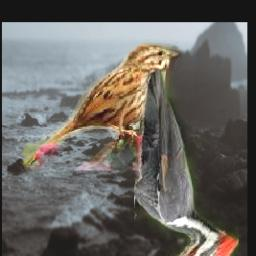Sparrow: (20, 39, 181, 170)
Woodpecker: (133, 71, 238, 256)
